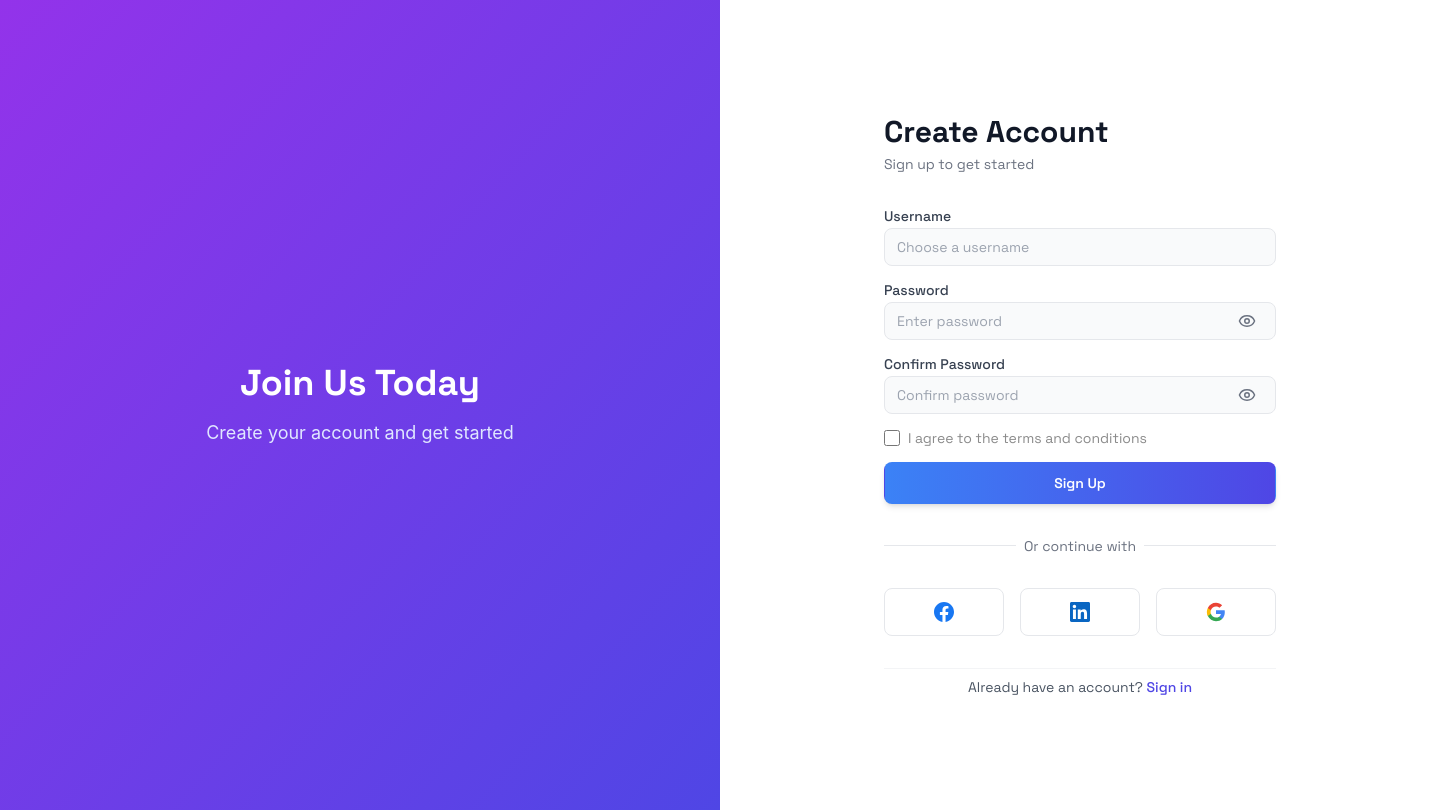
Test: RegisterForm › shows error when username is empty
The image size is (1440, 810).
Step 1. Click the button "Sign Up" → coordinates (1080, 482), box [884,462,1276,504]
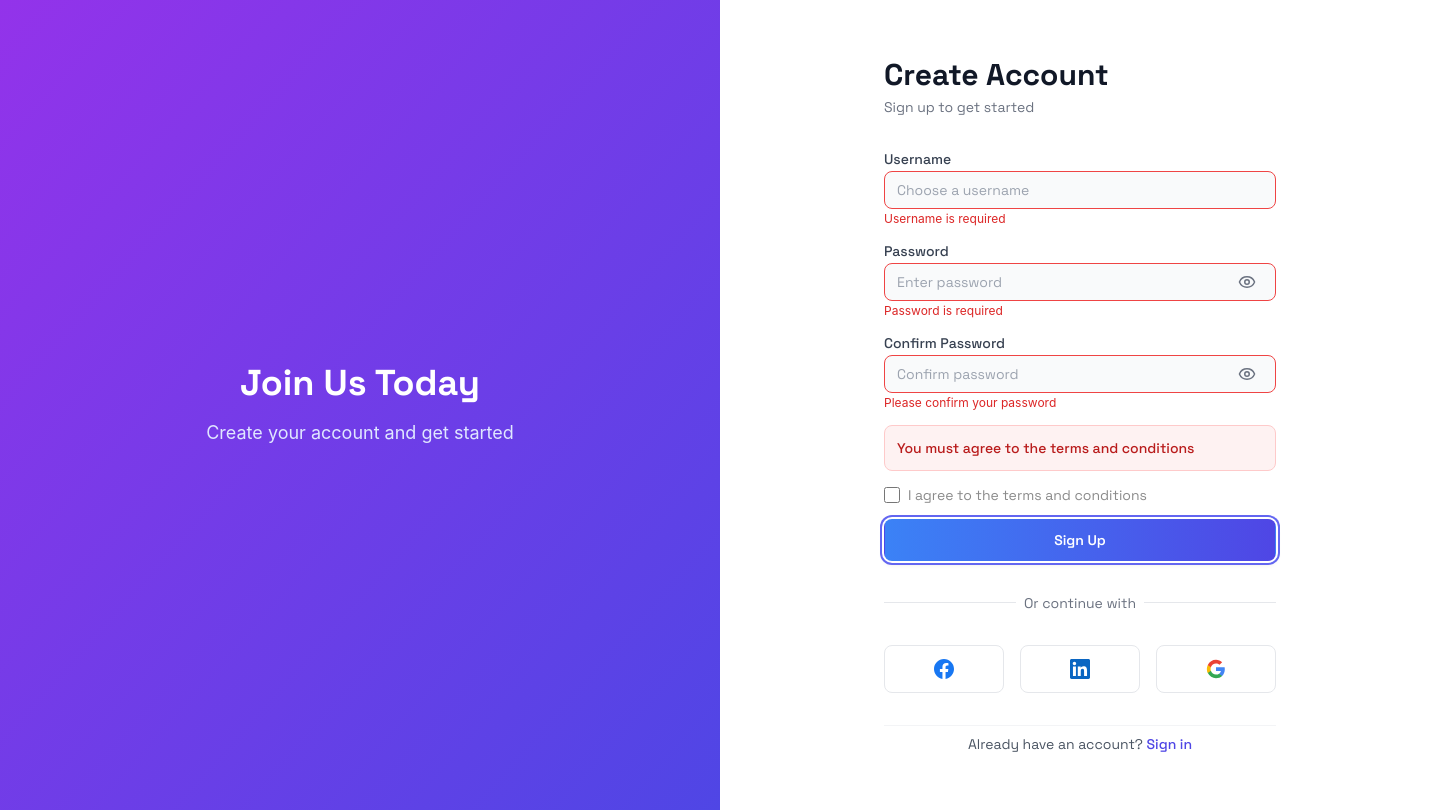
Check: the text "Username is required" is shown, box [884,210,1006,226]
